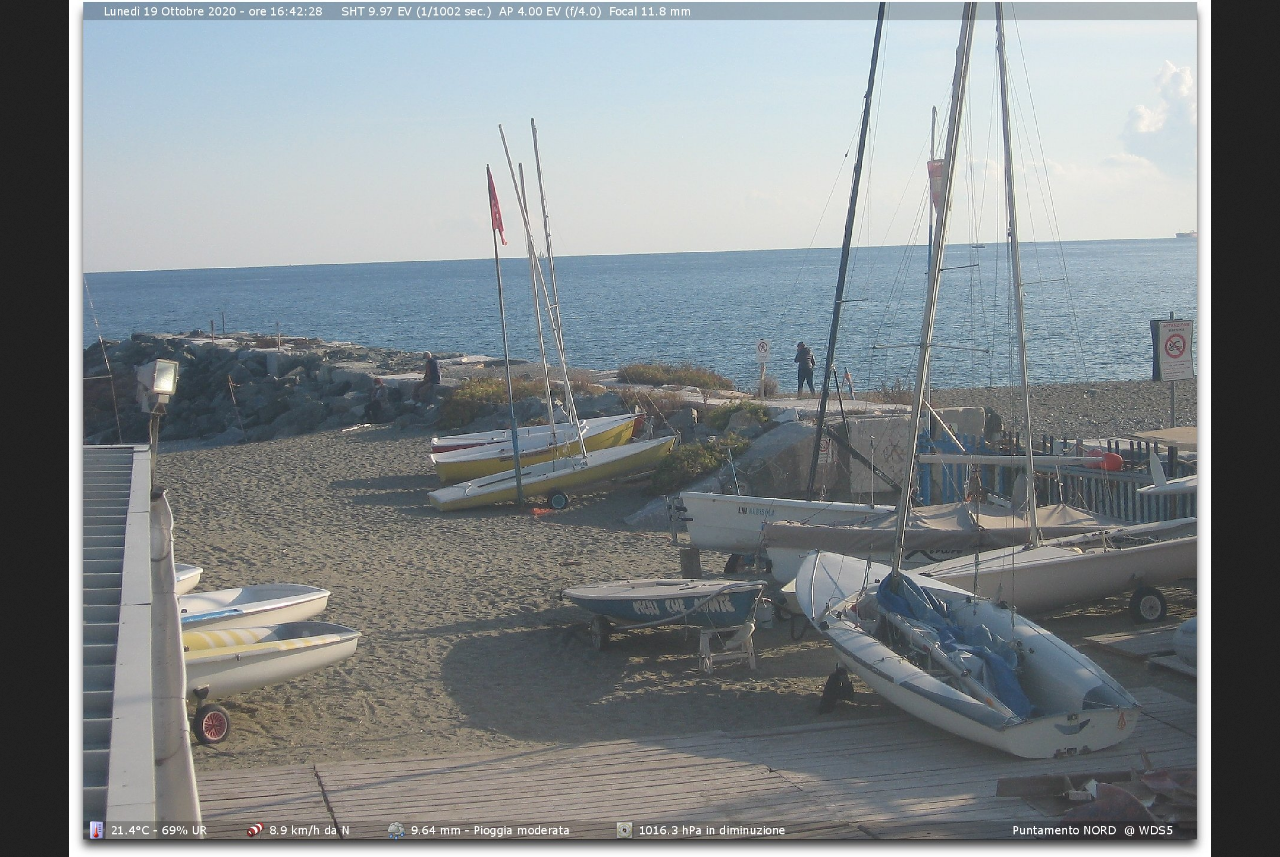no: (483, 164, 512, 248)
